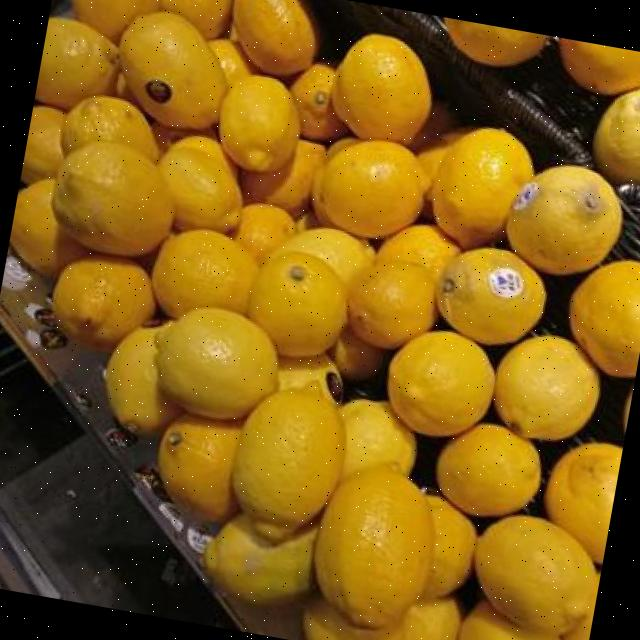lemon: (314, 465, 434, 628), (232, 389, 346, 528), (474, 515, 595, 634), (52, 141, 173, 255), (155, 307, 277, 419), (118, 11, 226, 129), (506, 165, 622, 274), (431, 128, 533, 249), (387, 330, 495, 436), (493, 335, 598, 441), (331, 34, 432, 144), (311, 140, 425, 237), (247, 250, 346, 357), (436, 248, 546, 344), (204, 514, 317, 603), (435, 423, 541, 516), (52, 257, 155, 351), (544, 442, 622, 563), (152, 229, 258, 317), (157, 414, 241, 523), (569, 260, 640, 377), (104, 327, 181, 434), (158, 136, 242, 233), (218, 74, 300, 172), (34, 17, 118, 109), (9, 178, 87, 276), (348, 262, 436, 348), (269, 227, 375, 293), (302, 598, 461, 640), (61, 95, 159, 163), (240, 139, 326, 215), (72, 0, 232, 40), (232, 0, 316, 76), (339, 399, 416, 476), (424, 494, 477, 598), (443, 17, 549, 66), (593, 88, 640, 187), (560, 38, 640, 94), (378, 226, 459, 280), (290, 63, 346, 141), (459, 601, 558, 640), (233, 202, 295, 263), (20, 106, 65, 183), (278, 354, 342, 404), (328, 327, 384, 381), (418, 128, 471, 182), (159, 0, 232, 38), (563, 573, 600, 640), (207, 38, 252, 85)
